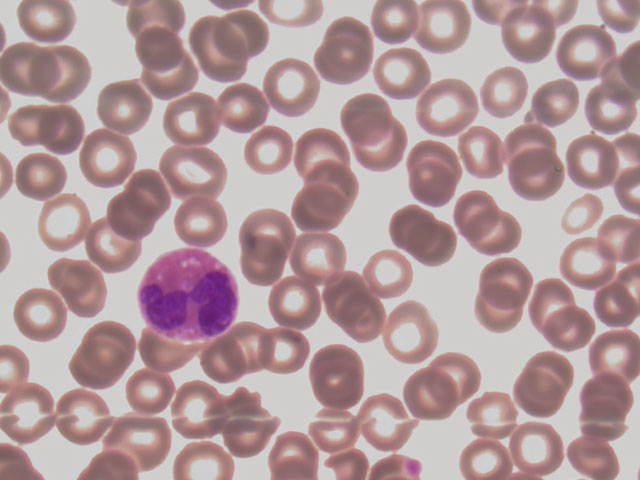RBC: (37, 47, 94, 104), (40, 102, 97, 159), (3, 100, 60, 157), (10, 143, 67, 200), (33, 192, 90, 249), (83, 217, 140, 274), (102, 192, 159, 249), (114, 169, 171, 226), (82, 131, 139, 188), (94, 82, 151, 139), (141, 53, 198, 110), (138, 21, 195, 78), (183, 27, 240, 84), (208, 9, 265, 66), (262, 54, 319, 111), (214, 78, 271, 135), (167, 89, 224, 146), (165, 137, 222, 194), (172, 194, 229, 251), (236, 201, 293, 258), (238, 240, 295, 297), (291, 231, 348, 288), (289, 182, 346, 239), (305, 157, 362, 214), (291, 125, 348, 182), (245, 123, 302, 180), (305, 37, 362, 94), (322, 12, 379, 69), (341, 89, 398, 146), (351, 116, 408, 173), (373, 47, 430, 104), (417, 74, 474, 131), (473, 59, 530, 116), (456, 122, 513, 179), (410, 126, 467, 183), (405, 157, 462, 214), (380, 197, 437, 254), (403, 215, 460, 272), (363, 244, 420, 301), (316, 264, 373, 321), (331, 288, 388, 345), (265, 275, 322, 332), (258, 321, 315, 378), (210, 327, 267, 384), (117, 364, 174, 421), (82, 315, 139, 372), (55, 348, 112, 405), (11, 288, 68, 345), (57, 264, 114, 321), (49, 384, 106, 441), (2, 382, 59, 439), (105, 405, 162, 462), (172, 385, 229, 442), (217, 398, 274, 455), (274, 423, 331, 480), (300, 404, 357, 461), (314, 350, 371, 407), (359, 393, 416, 450), (404, 376, 461, 433), (429, 348, 486, 405), (390, 302, 447, 359), (509, 370, 566, 427), (521, 338, 578, 395), (536, 300, 593, 357), (530, 273, 587, 330), (480, 251, 537, 308), (475, 278, 532, 335), (472, 202, 529, 259), (452, 185, 509, 242), (511, 149, 568, 206), (500, 122, 557, 179), (566, 131, 623, 188), (558, 183, 615, 240), (556, 229, 613, 286), (581, 365, 638, 422), (583, 327, 640, 384), (510, 417, 567, 474), (458, 423, 515, 480), (461, 386, 518, 443), (501, 7, 558, 64), (563, 22, 620, 79), (530, 63, 587, 120), (583, 82, 640, 139), (1, 41, 57, 98), (372, 1, 429, 57), (426, 1, 483, 57), (18, 1, 74, 42)
WBC: (142, 246, 240, 345)
